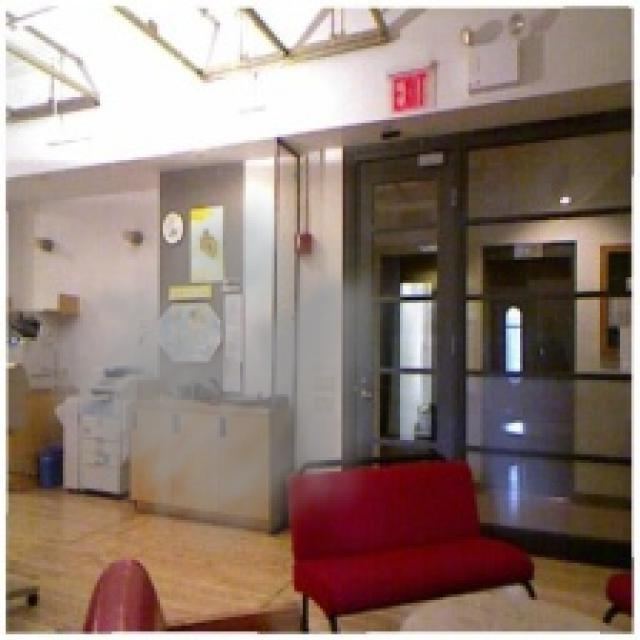smoke: (6, 183, 400, 580)
